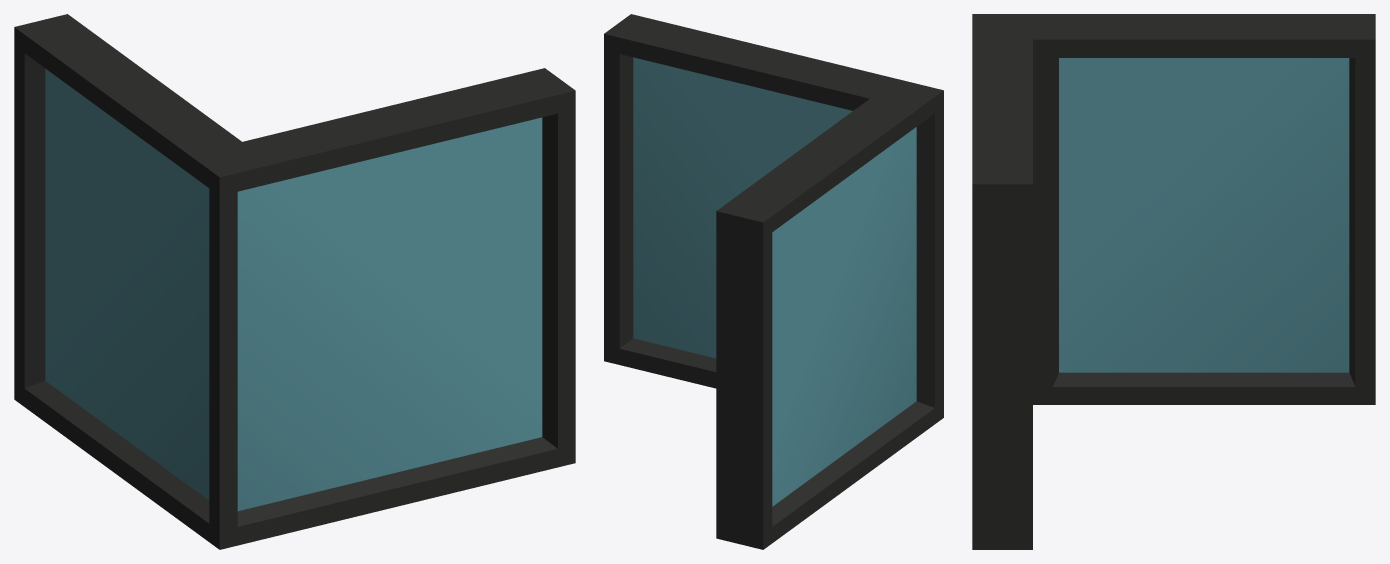
File: shortWindowLightCorner.fbx
3 views of the same model, side by side, from view 1: azimuth 30°, elevation 25°; view 2: azimuth 150°, elevation 25°; view 3: azimuth 270°, elevation 25° (orthographic). The views are drawn at different scales.
Parts seen in each view (by area): view 1: shortWindowLightCorner; view 2: shortWindowLightCorner; view 3: shortWindowLightCorner.
Boxes of the visible parts, x1,y1,x2,y2 form: shortWindowLightCorner: [14, 14, 575, 549]; shortWindowLightCorner: [604, 14, 943, 549]; shortWindowLightCorner: [972, 14, 1375, 549].
Size of the model in its own units: 200 by 200 by 200.
1 material, 1 textured.
